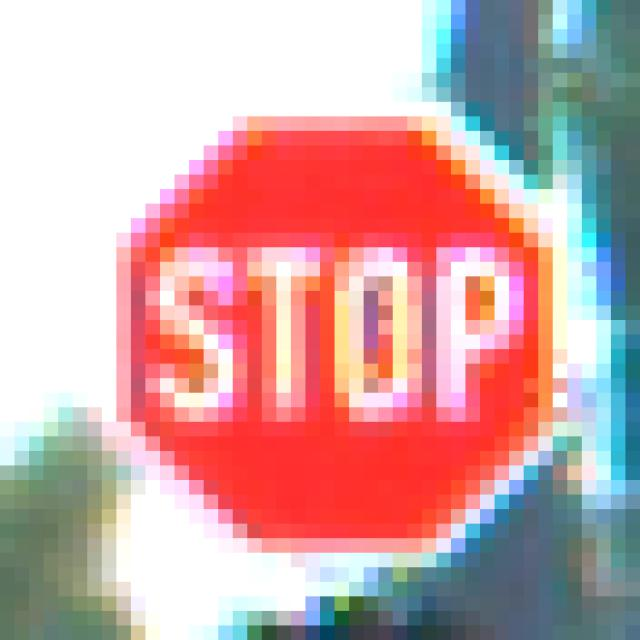STOP: (89, 89, 569, 569)
